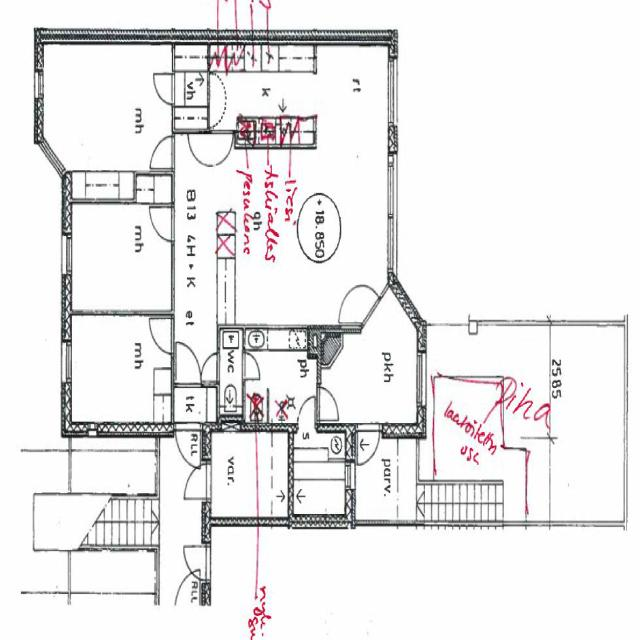door: (336, 278, 368, 330), (174, 563, 204, 609), (181, 460, 212, 503), (146, 312, 174, 358), (174, 339, 201, 385), (174, 423, 202, 465), (148, 131, 175, 173), (182, 543, 210, 583), (356, 423, 382, 466), (148, 201, 175, 242), (317, 382, 341, 423), (151, 68, 176, 106), (210, 128, 234, 167), (188, 128, 209, 166), (296, 392, 318, 426), (199, 350, 220, 382), (241, 348, 262, 380)
window: (382, 151, 402, 281), (384, 54, 402, 132), (414, 347, 428, 409), (58, 228, 74, 280), (59, 337, 74, 387), (168, 236, 178, 304), (33, 66, 44, 104)
zone: (223, 143, 385, 327), (38, 43, 173, 184), (550, 321, 626, 524), (65, 199, 176, 315), (65, 313, 174, 430), (319, 324, 422, 427), (213, 44, 320, 142), (428, 378, 505, 480), (243, 338, 317, 426), (355, 430, 419, 523), (64, 441, 161, 496), (208, 428, 264, 521), (34, 495, 96, 550), (256, 429, 292, 520), (218, 324, 244, 420), (173, 68, 209, 107), (279, 42, 315, 74), (176, 422, 202, 466), (172, 105, 209, 132), (173, 42, 209, 69)
